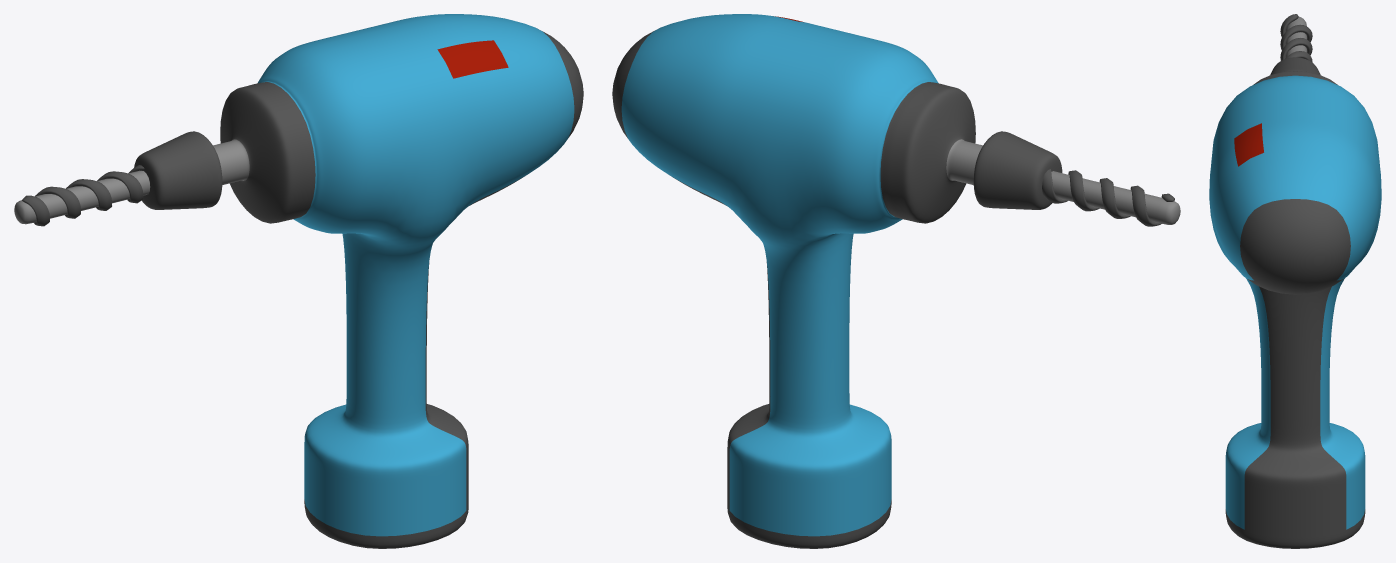
3 renders of one model, left to right at view 1: azimuth 30°, elevation 25°; view 2: azimuth 150°, elevation 25°; view 3: azimuth 270°, elevation 25°, orthographic. The views are drawn at different scales.
Visible parts, largest first — view 1: taladro, taladro_boca; view 2: taladro, taladro_boca; view 3: taladro, taladro_boca.
Boxes of the visible parts, box(x1,y1,x2,y2) form: taladro: box(134, 14, 583, 548); taladro_boca: box(14, 165, 150, 226); taladro: box(612, 14, 1062, 548); taladro_boca: box(1042, 169, 1180, 226); taladro: box(1209, 57, 1381, 548); taladro_boca: box(1280, 14, 1312, 62).
Size of the model in its own units: 0.2383 by 0.1982 by 0.0737.
